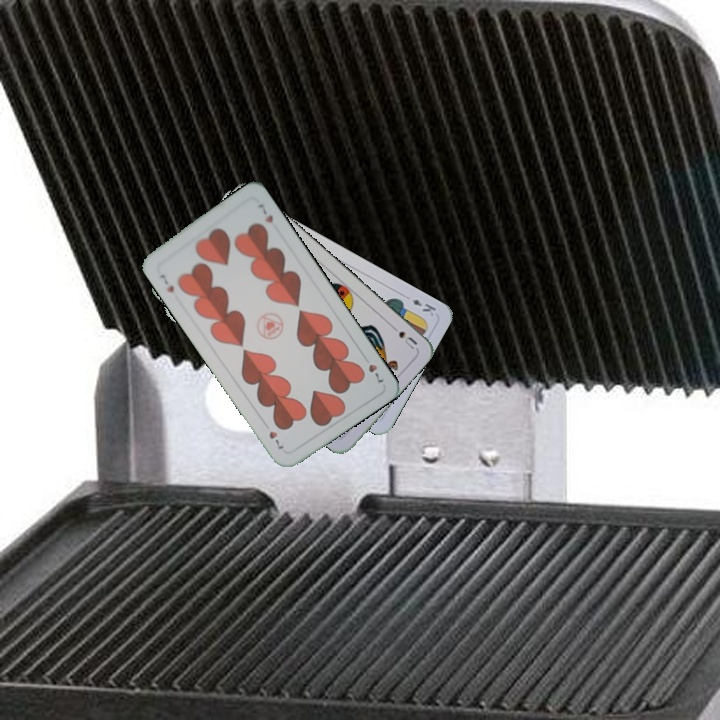EK: (408, 295, 439, 319)
H7: (359, 351, 387, 387), (156, 270, 177, 295)
SU: (386, 320, 420, 352)
